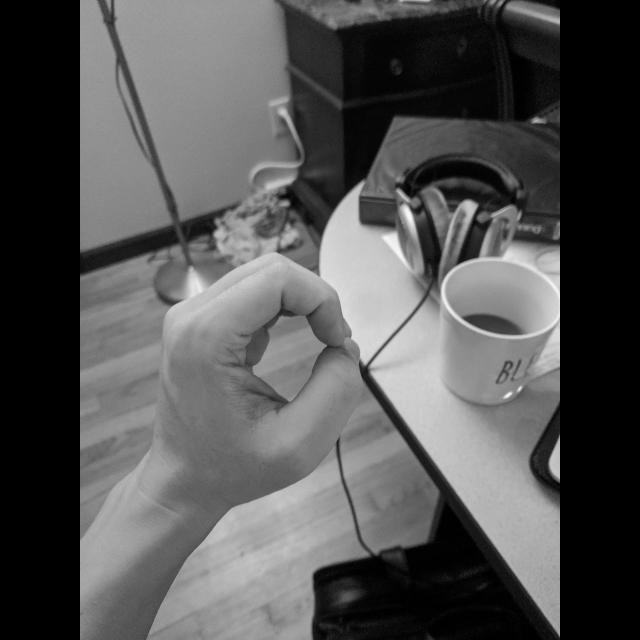O: (146, 248, 370, 510)
